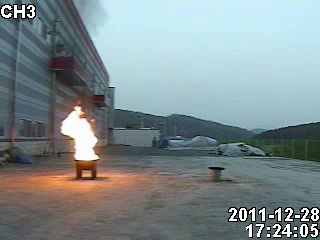fire: (59, 103, 100, 162)
